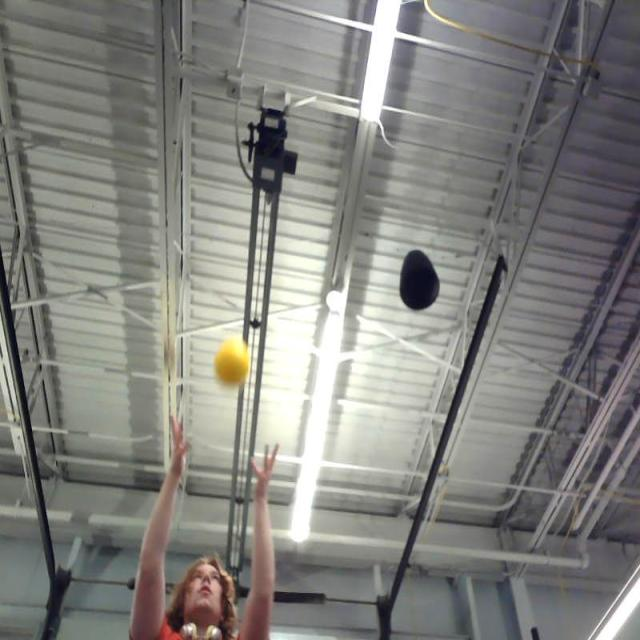Fuel: (214, 340, 248, 384)
